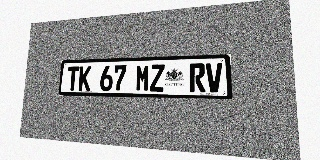6: (100, 65, 113, 91)
7: (113, 65, 127, 91)
K: (78, 66, 91, 91)
M: (135, 65, 150, 92)
R: (189, 63, 205, 92)
T: (66, 66, 79, 91)
V: (206, 63, 223, 92)
Z: (150, 64, 165, 92)
